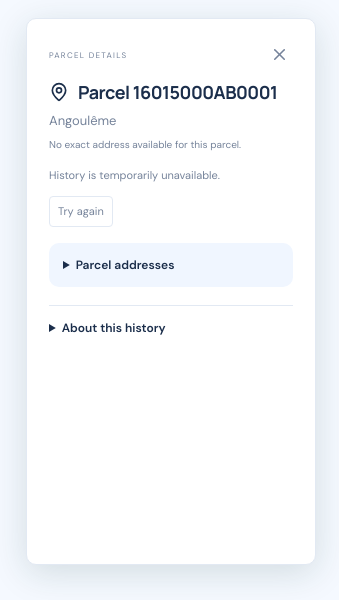
parcel entry point › distinguishes failed history from zero known sales and permits retry
Check: the text "History is temporarily unavailable." is shown, box [49, 168, 220, 182]
Check: the text "No known sale" is not shown
Click the button "Try again": (81, 211) [49, 196, 113, 227]
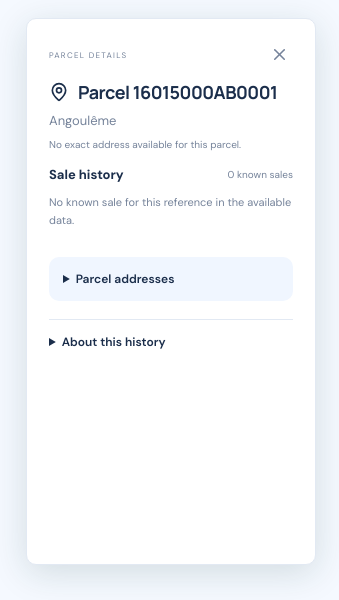
Check: the text "No known sale for this reference in the available data." is shown, box [49, 194, 293, 230]
